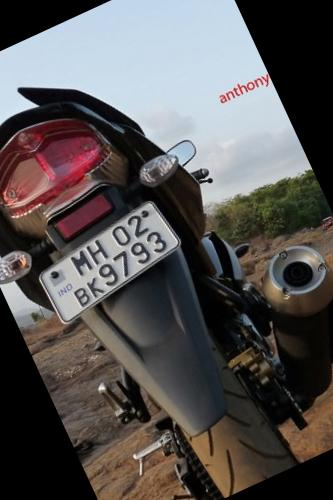plate: (24, 189, 198, 324)
